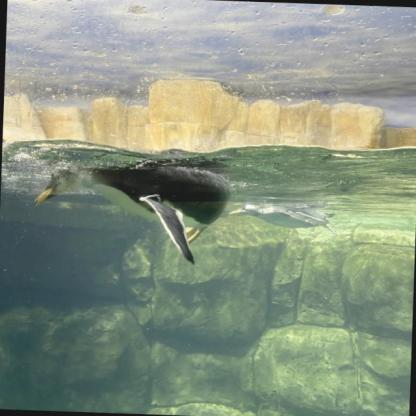penguin: (33, 148, 235, 240), (230, 199, 339, 231)
